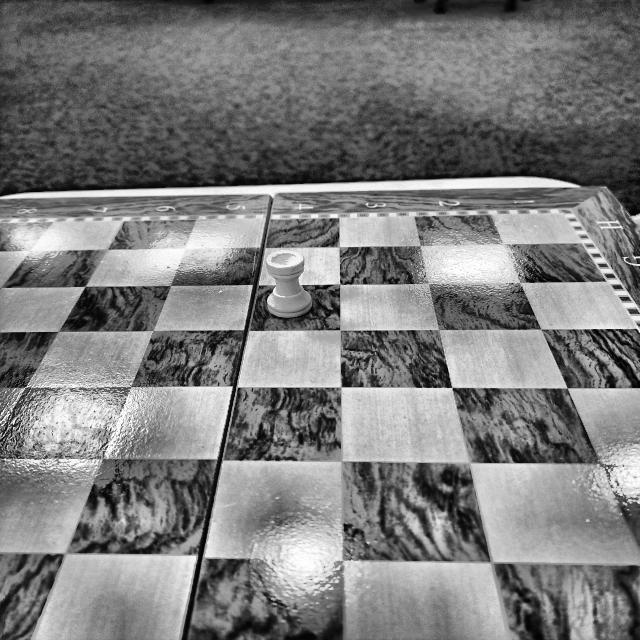white-rook: (266, 249, 313, 317)
